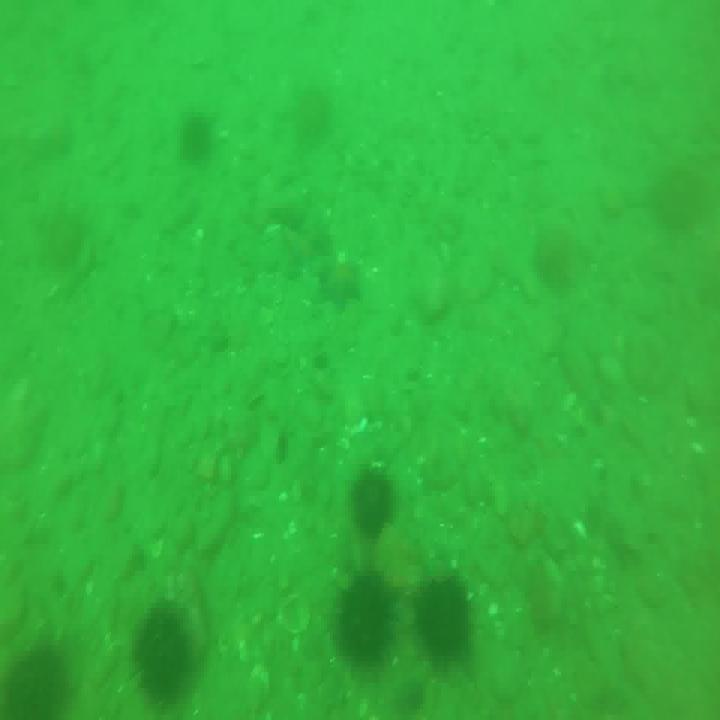echinus: (327, 568, 400, 669), (130, 596, 192, 709), (420, 574, 468, 666), (6, 643, 60, 720), (351, 470, 393, 546), (180, 110, 210, 164)
scallop: (274, 593, 311, 633)
starfish: (319, 260, 361, 312)
